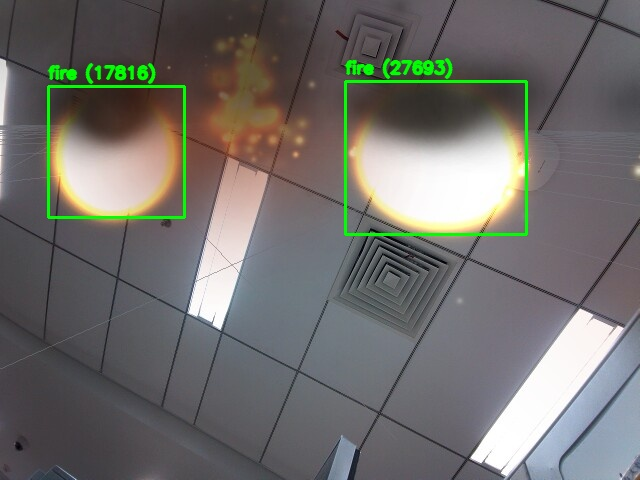fire: (345, 81, 526, 234), (48, 86, 184, 217)
